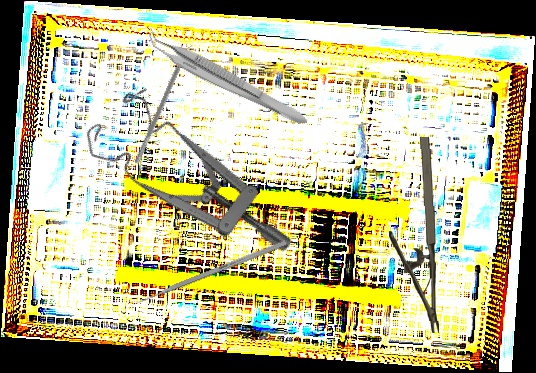Needle Holder: (387, 136, 439, 334)
Pusher: (128, 239, 288, 309)
Spatula Surgical: (134, 40, 196, 167)
Speculum: (73, 60, 296, 312)
Tissue Forceps: (138, 27, 315, 129)
